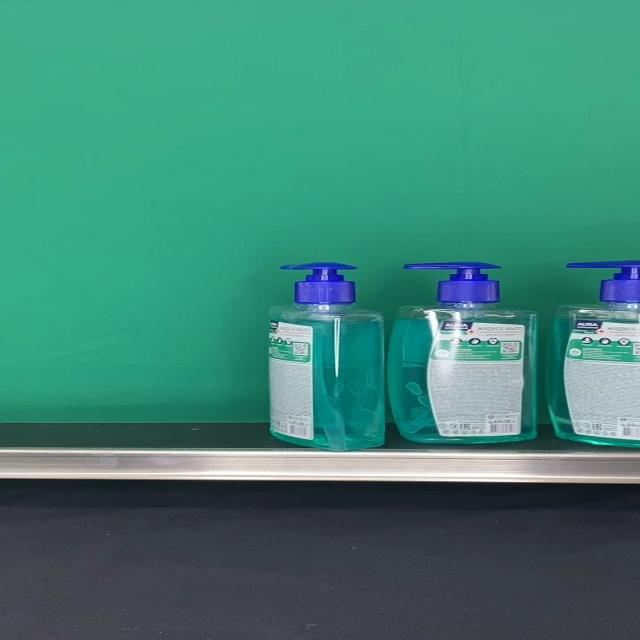Bottle: (386, 262, 536, 444), (267, 262, 386, 450)
Cap: (403, 262, 501, 303), (279, 262, 357, 304)
